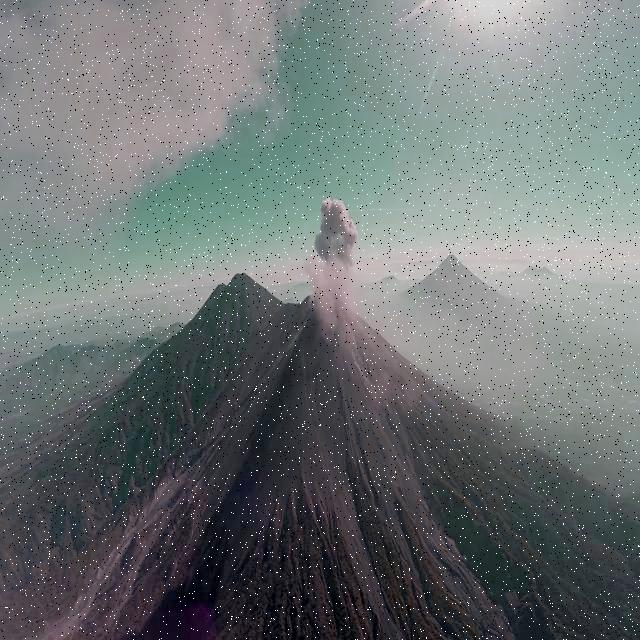Plume: (2, 2, 296, 243), (312, 193, 360, 285)
Summit: (294, 290, 368, 357)
